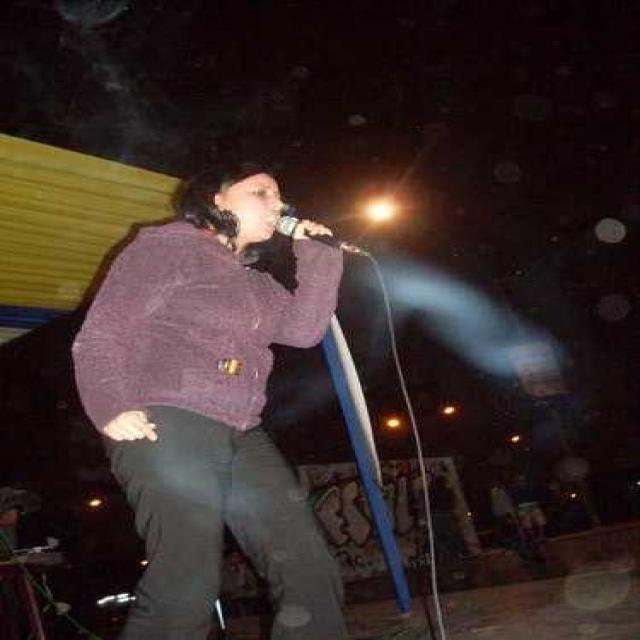microphone: (272, 212, 370, 260)
